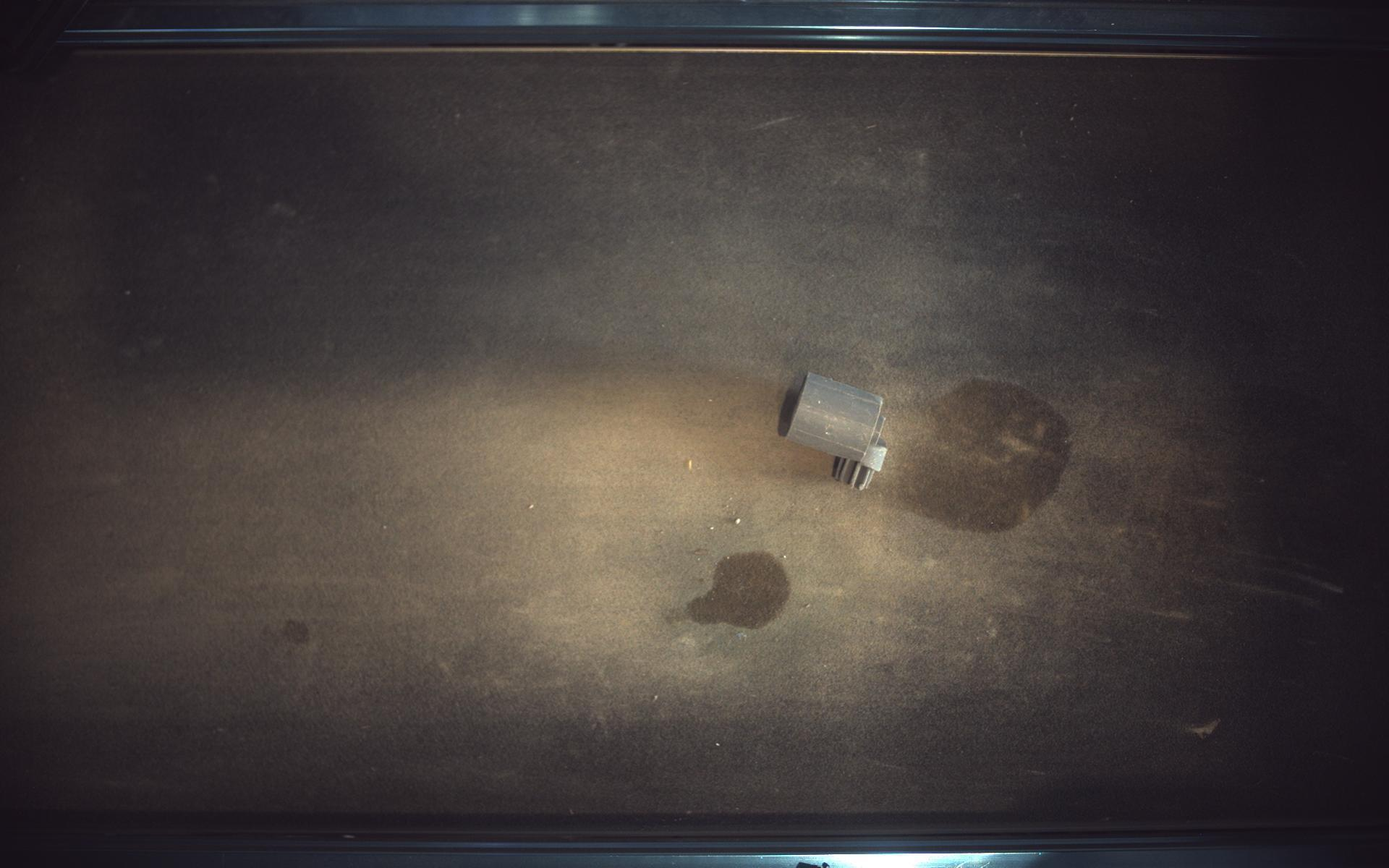plastic: (780, 373, 889, 490)
